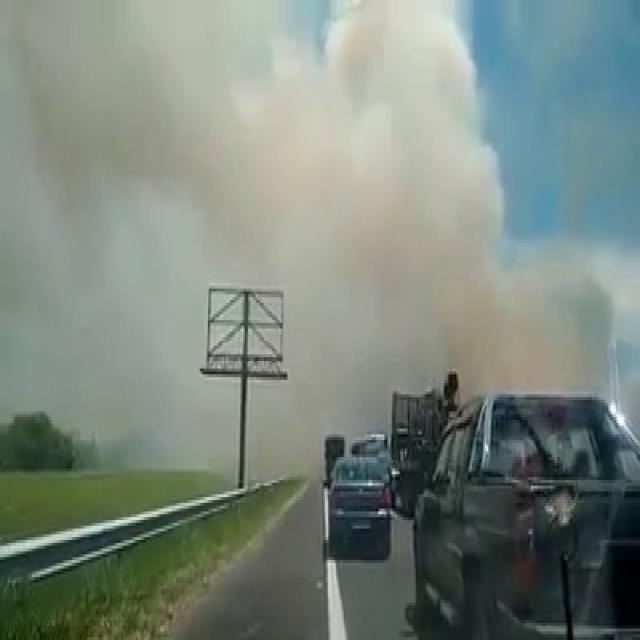Smoke: (223, 21, 622, 394)
